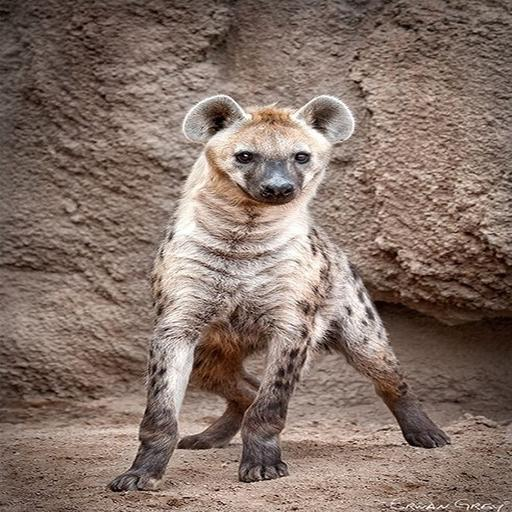Hyena: (113, 90, 453, 499)
